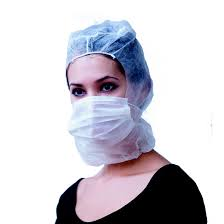with_mask_and_cap: (67, 21, 140, 149)
